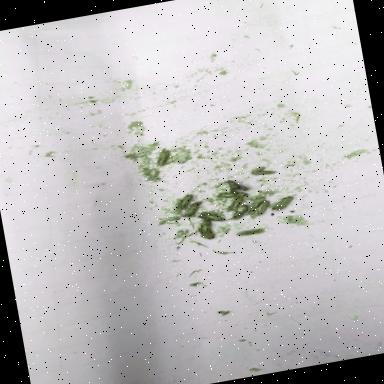pbw: (270, 194, 298, 210), (216, 188, 250, 201), (198, 208, 224, 224), (198, 218, 216, 240), (156, 146, 174, 165), (176, 193, 196, 210), (185, 200, 206, 216), (236, 226, 266, 237), (225, 177, 244, 193), (231, 203, 251, 218), (252, 167, 276, 177), (254, 200, 270, 214)
